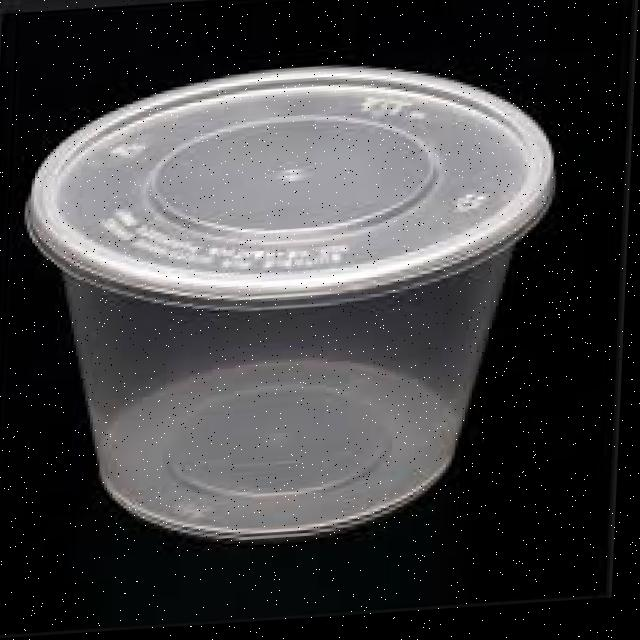disposable: (10, 61, 581, 578)
